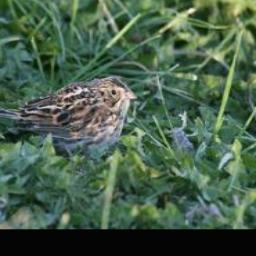Sparrow: (0, 73, 141, 161)
